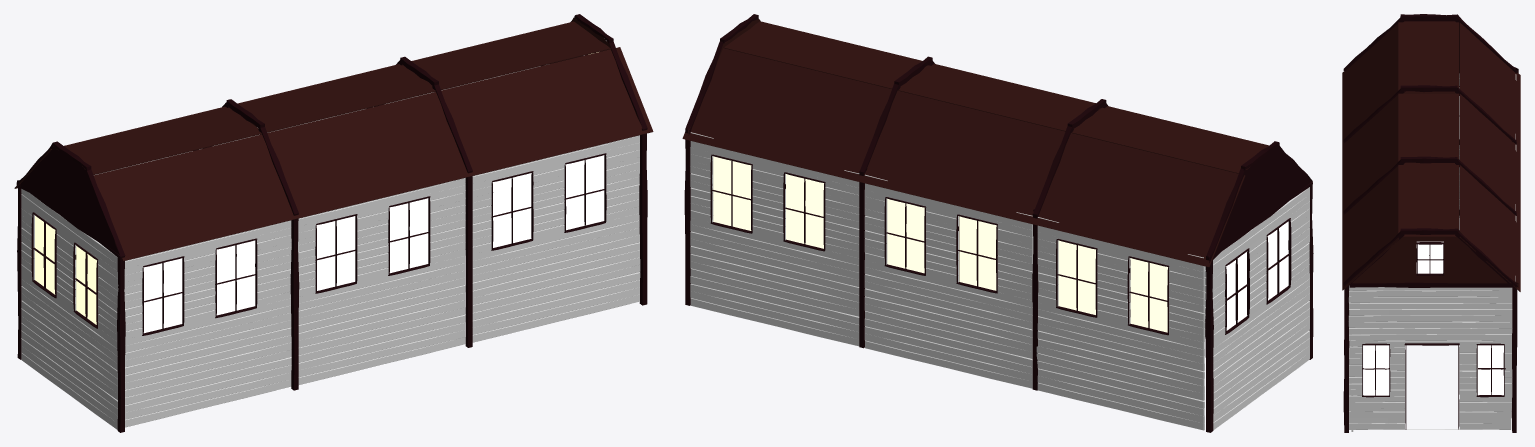
File: house_r3_day1_exp.fbx
3 views of the same model, side by side, from view 1: azimuth 30°, elevation 25°; view 2: azimuth 150°, elevation 25°; view 3: azimuth 270°, elevation 25° (orthographic). The views are drawn at different scales.
Visible parts, largest first — view 1: barracks1; view 2: barracks1; view 3: barracks1.
Part boxes in pixels (x1,y1,x2,y2): barracks1: [14, 14, 653, 432]; barracks1: [682, 14, 1313, 432]; barracks1: [1342, 14, 1520, 432].
Bounding box in the file's own units: 1157 × 501 × 399.
